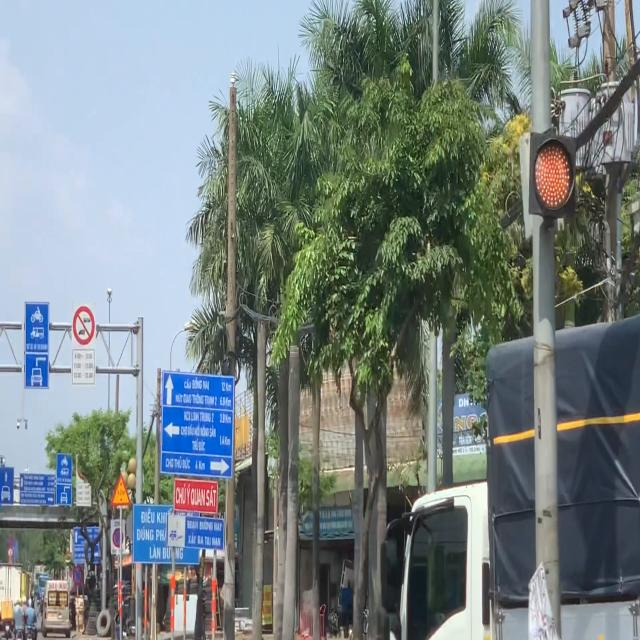Cam dung va do: (73, 567, 82, 587)
Nguy hiem: (111, 473, 132, 507)
